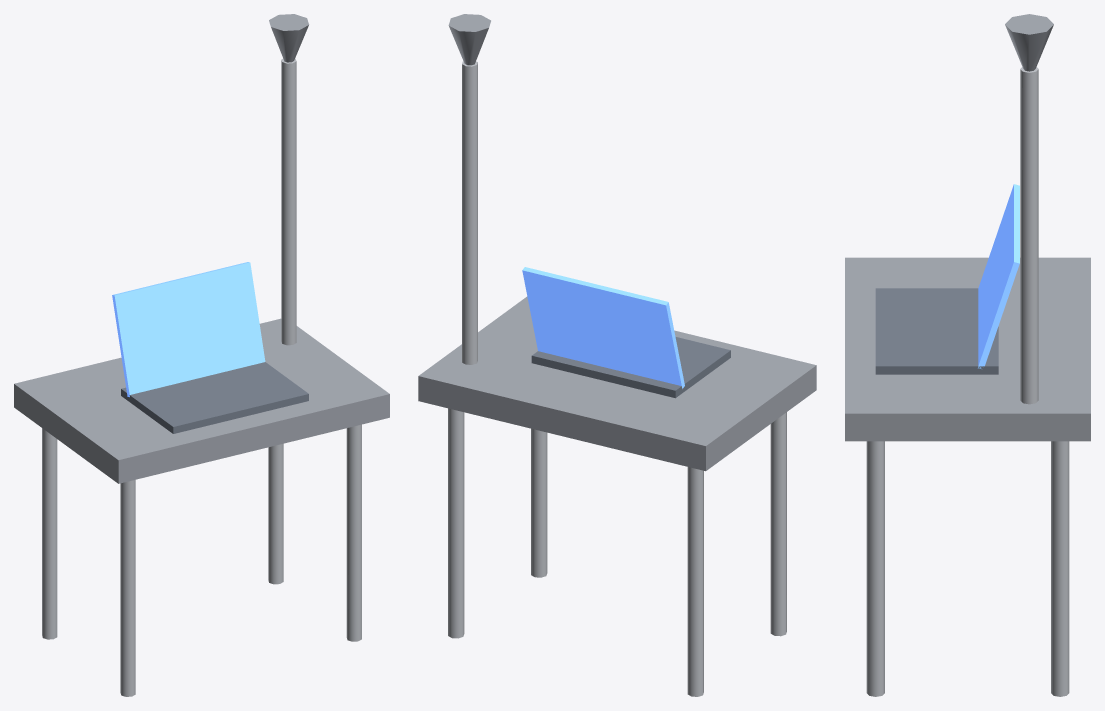
Rendered from ground_station.glb.
3 renders of one model, left to right at view 1: azimuth 30°, elevation 25°; view 2: azimuth 150°, elevation 25°; view 3: azimuth 270°, elevation 25°, orthographic. The views are drawn at different scales.
Bounding box in the file's own units: 0.6 × 1.2 × 0.4.
